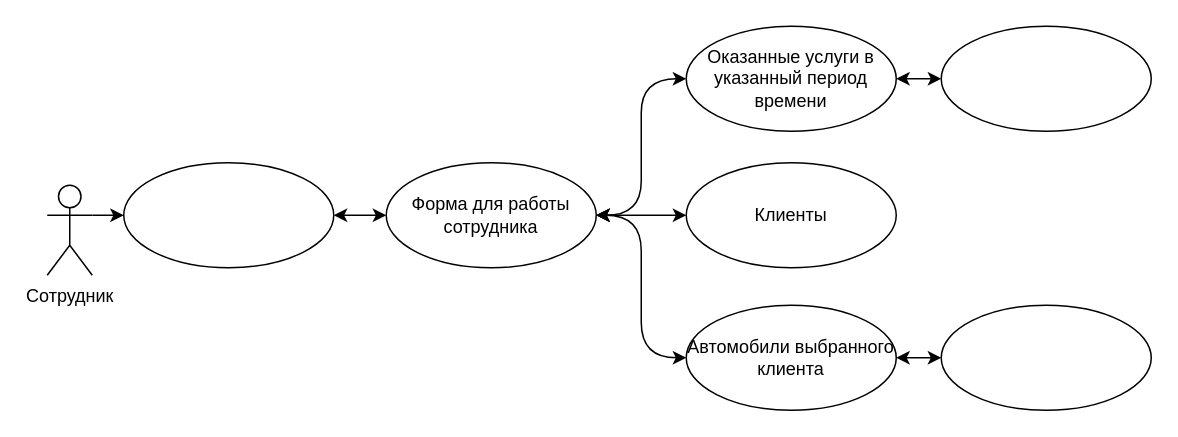
Some shapes in this 1178 by 437 pixel diagram are drawn without their labels. The centre of each missing label's shape, as x and y in pixels:
"Главная форма приложения" belongs at point (228, 214).
"Добавление/изменение/удаление автомобиля" belongs at point (1045, 357).
"Добавление/изменение/удаление оказанной услуги" belongs at point (1045, 78).
